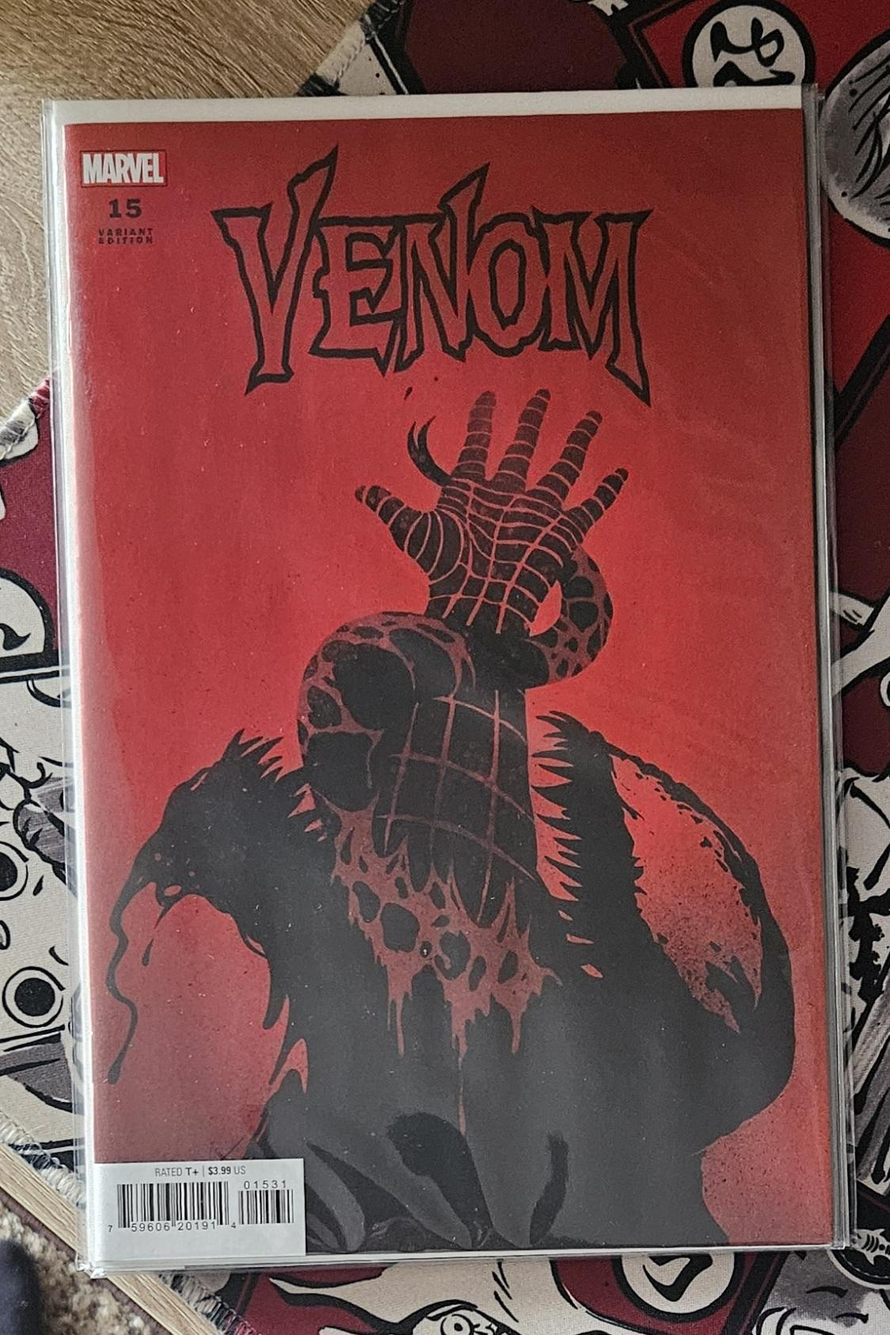comic: (47, 77, 851, 1271)
